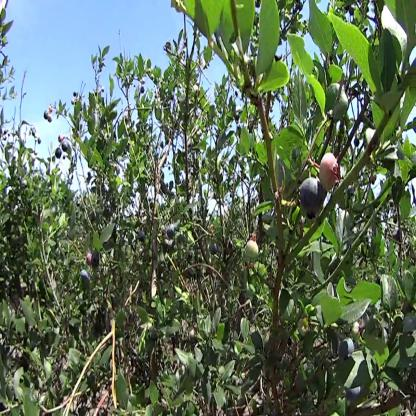intermediate: (318, 150, 341, 198), (85, 251, 94, 270)
mature: (298, 176, 327, 217), (340, 338, 354, 360), (80, 270, 91, 288)
young: (244, 237, 262, 267), (352, 323, 363, 342)
